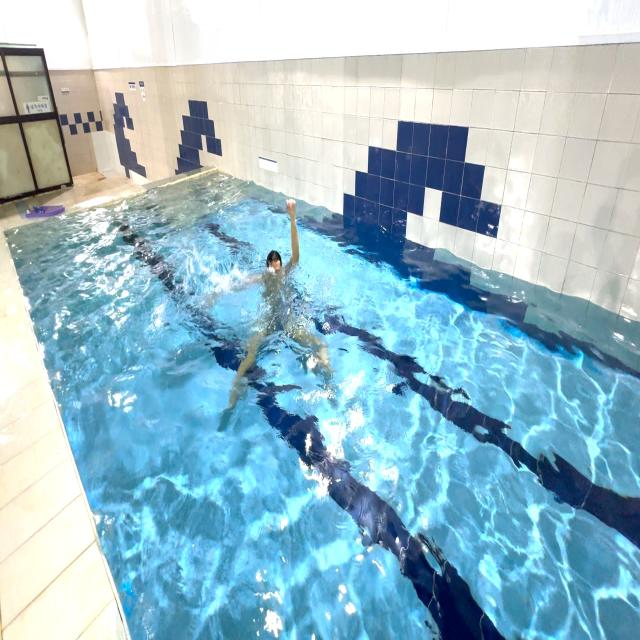Drowning: (212, 181, 337, 425)
